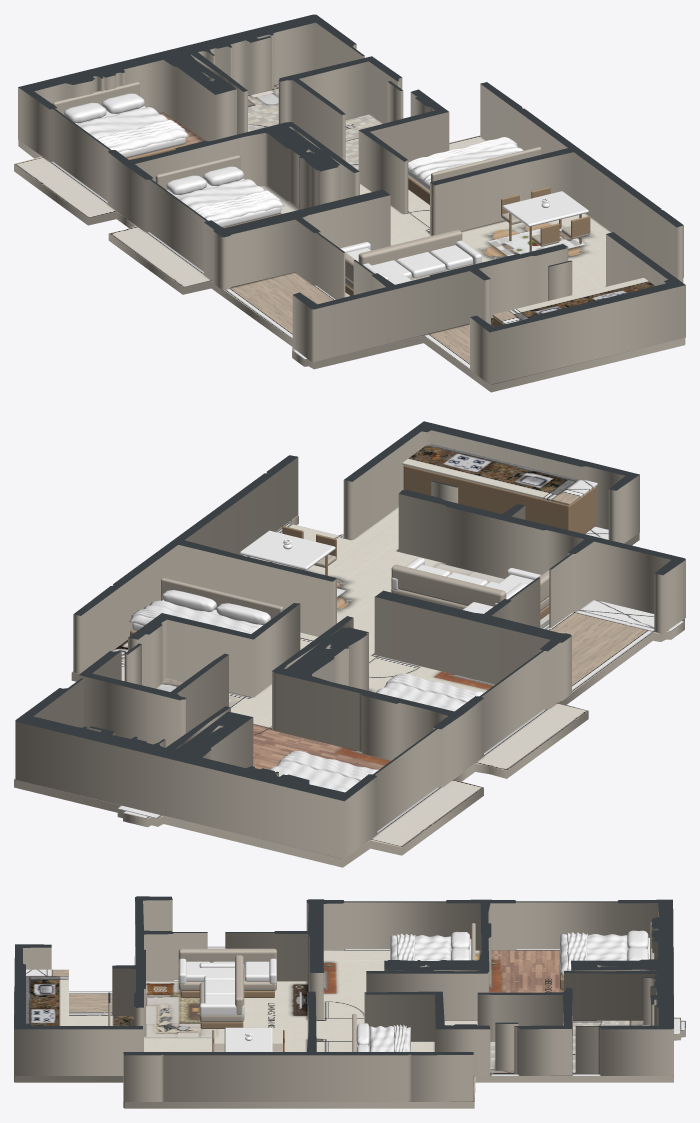
3 views of the same model, one above another, from view 1: azimuth 30°, elevation 25°; view 2: azimuth 150°, elevation 25°; view 3: azimuth 270°, elevation 25° (orthographic). The views are drawn at different scales.
Visible parts, largest first — view 1: Partition walls, Apartment floor, Draped bed linen, Draped bed linen.002, Stone worktop, Marble dining top, Sofa back, Draped bed linen.004, Upholstered headboard.002, Upholstered headboard.001, Draped bed linen.001, Upholstered headboard (+10 smaller); view 2: Partition walls, Apartment floor, Stone worktop, Kitchen cabinets, Sofa back, Marble dining top, Draped bed linen.004, Upholstered headboard.002, Draped bed linen, Draped bed linen.002, Draped bed linen.001, Draped bed linen.003 (+2 smaller); view 3: Partition walls, Apartment floor, Stone worktop, Draped bed linen, Sofa back.001, Marble dining top, Draped bed linen.002, Draped bed linen.004, Draped bed linen.001, Upholstered sofa frame.001, Seat cushion.005, Padded armrest.001 (+9 smaller).
Part boxes in pixels (bbox=[...]): Partition walls: bbox=[18, 14, 685, 384]; Apartment floor: bbox=[14, 84, 685, 392]; Draped bed linen: bbox=[77, 107, 188, 152]; Draped bed linen.002: bbox=[176, 179, 284, 221]; Stone worktop: bbox=[492, 277, 654, 324]; Marble dining top: bbox=[502, 191, 588, 226]; Sofa back: bbox=[358, 229, 462, 265]; Draped bed linen.004: bbox=[408, 143, 523, 181]; Upholstered headboard.002: bbox=[431, 147, 541, 181]; Upholstered headboard.001: bbox=[155, 155, 240, 189]; Draped bed linen.001: bbox=[97, 120, 185, 147]; Upholstered headboard: bbox=[52, 82, 139, 114]; Partition walls: bbox=[15, 421, 685, 859]; Apartment floor: bbox=[14, 506, 684, 867]; Stone worktop: bbox=[402, 444, 597, 505]; Kitchen cabinets: bbox=[403, 465, 596, 533]; Sofa back: bbox=[391, 564, 506, 606]; Marble dining top: bbox=[240, 530, 335, 570]; Draped bed linen.004: bbox=[128, 600, 262, 633]; Upholstered headboard.002: bbox=[161, 578, 283, 619]; Draped bed linen: bbox=[269, 751, 378, 792]; Draped bed linen.002: bbox=[376, 674, 483, 711]; Draped bed linen.001: bbox=[278, 751, 376, 780]; Draped bed linen.003: bbox=[385, 673, 481, 702]; Partition walls: bbox=[14, 896, 673, 1101]; Apartment floor: bbox=[14, 946, 685, 1108]; Stone worktop: bbox=[26, 969, 68, 1025]; Draped bed linen: bbox=[560, 934, 627, 972]; Sofa back.001: bbox=[178, 948, 276, 966]; Marble dining top: bbox=[224, 1027, 272, 1051]; Draped bed linen.002: bbox=[390, 935, 451, 960]; Draped bed linen.004: bbox=[369, 1026, 410, 1051]; Draped bed linen.001: bbox=[567, 932, 587, 970]; Upholstered sofa frame.001: bbox=[178, 967, 276, 990]; Seat cushion.005: bbox=[244, 961, 269, 981]; Padded armrest.001: bbox=[199, 1003, 244, 1015].
Size of the model in its own units: 8.77 by 1.3 by 14.85.
9 materials, 1 textured.
